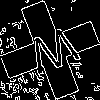W: (25, 25, 85, 85)
